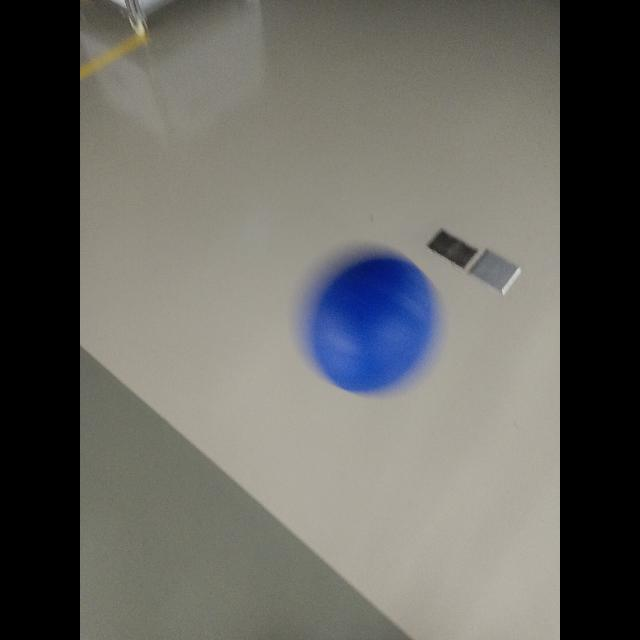B: (291, 242, 443, 396)
